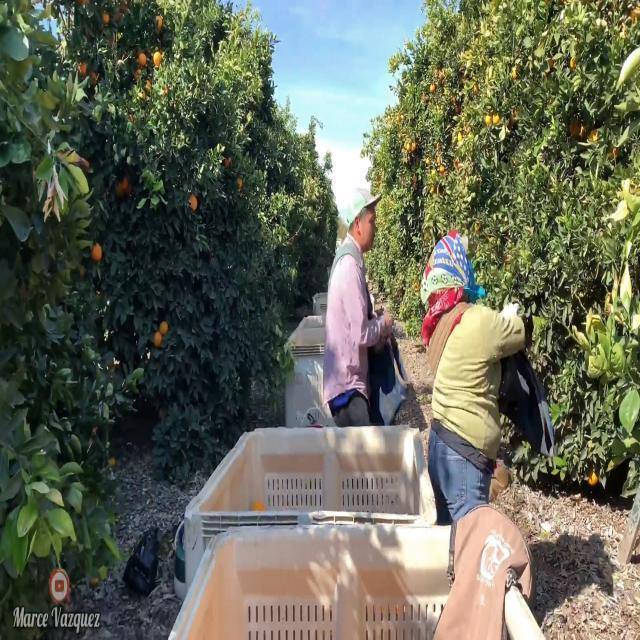Jeruk Sudah Matang: (91, 239, 105, 266), (78, 57, 90, 77), (189, 190, 199, 213), (152, 52, 164, 68), (154, 16, 165, 32), (138, 50, 146, 71), (154, 332, 164, 348), (160, 319, 168, 336), (104, 12, 110, 22)
